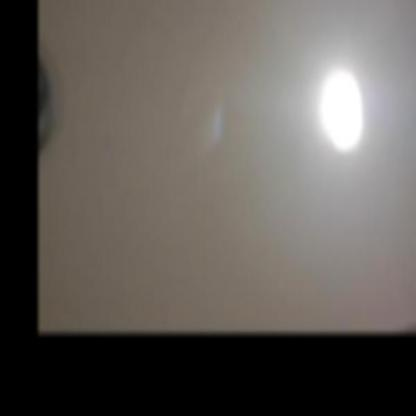light_off: (38, 36, 71, 166)
